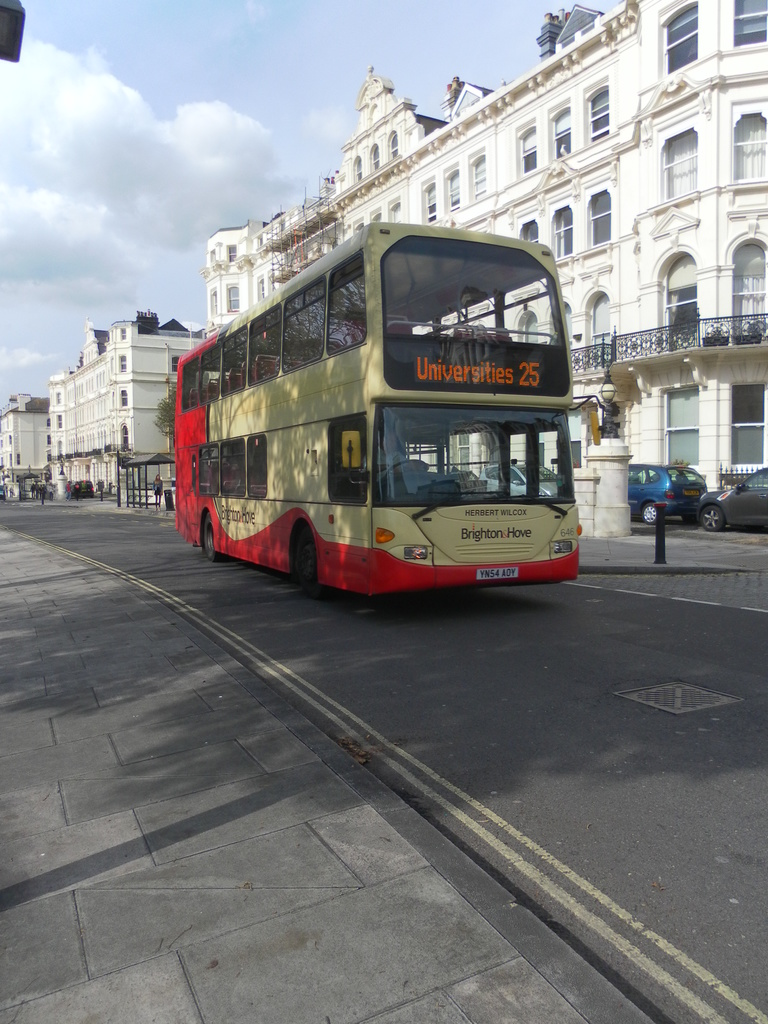Bus: (174, 220, 608, 599)
